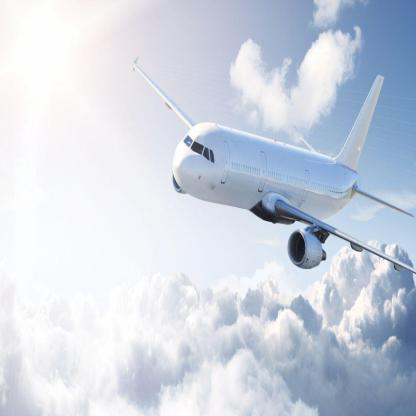CIV_Plane: (128, 58, 416, 278)
